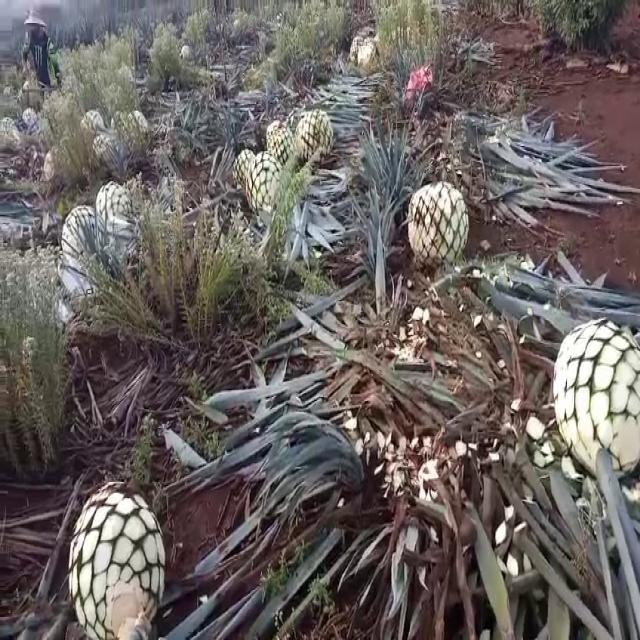agave: (66, 480, 164, 640), (554, 308, 640, 487), (404, 176, 474, 270), (244, 149, 285, 223), (57, 202, 106, 262), (295, 102, 338, 170), (264, 114, 300, 175), (95, 176, 128, 229), (233, 149, 257, 185)
